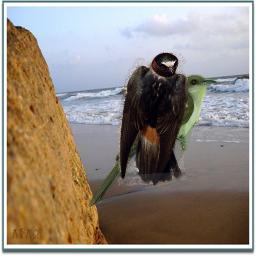Cuckoo: (88, 74, 218, 209)
Swallow: (118, 52, 188, 186)
